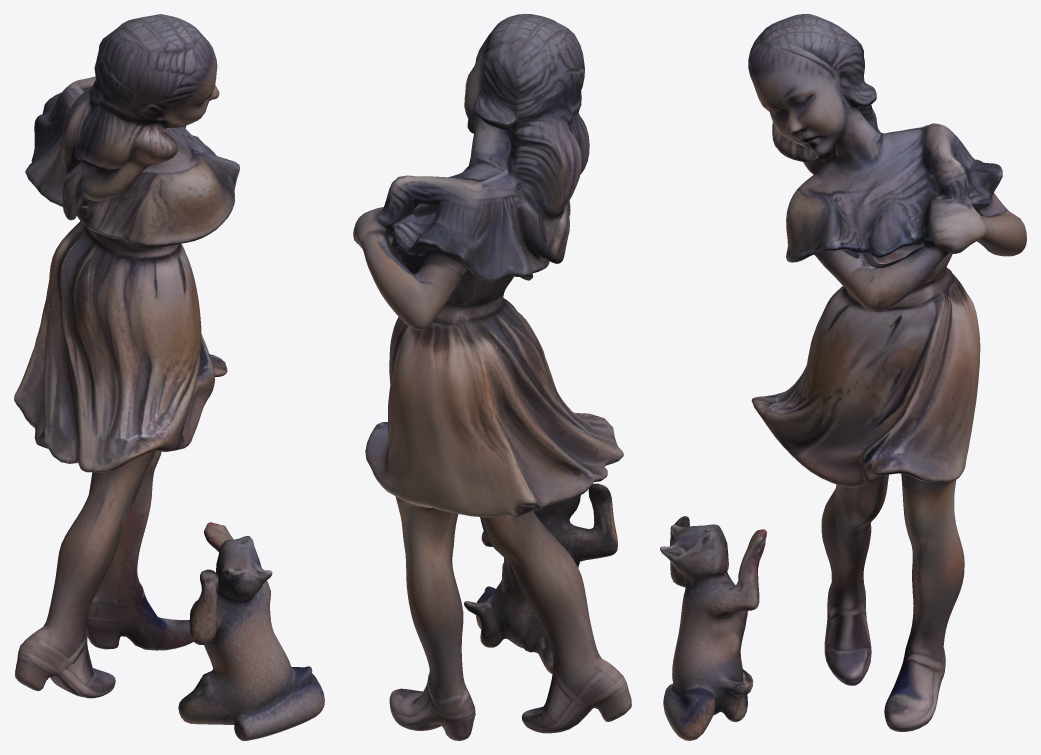
File: Girl_and_Cat.fbx
3 views of the same model, side by side, from view 1: azimuth 30°, elevation 25°; view 2: azimuth 150°, elevation 25°; view 3: azimuth 270°, elevation 25° (orthographic).
Parts seen in each view (by area): view 1: Girl_and_Cat; view 2: Girl_and_Cat; view 3: Girl_and_Cat.
Part boxes in pixels (left/top/right/bottom): Girl_and_Cat: left=14, top=14, right=324, bottom=740; Girl_and_Cat: left=353, top=14, right=631, bottom=740; Girl_and_Cat: left=660, top=14, right=1026, bottom=740.
Bounding box in the file's own units: 17.21 × 48.47 × 23.81.
1 material, 1 textured.
